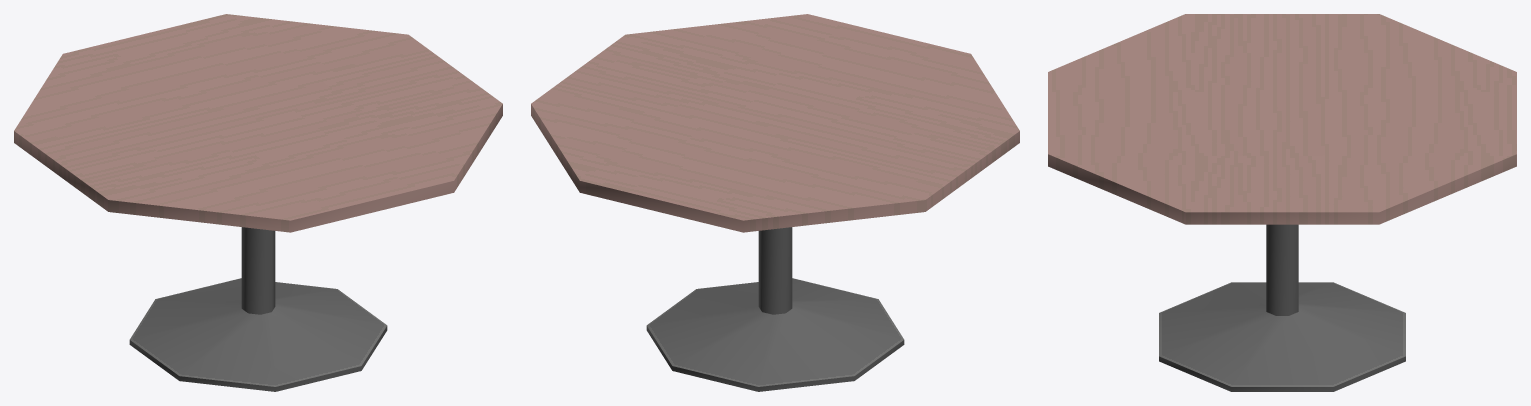
Rendered from 035b_Round_Table.glb.
3 renders of one model, left to right at view 1: azimuth 30°, elevation 25°; view 2: azimuth 150°, elevation 25°; view 3: azimuth 270°, elevation 25°, orthographic. The views are drawn at different scales.
Visible parts, largest first — view 1: part_0; view 2: part_0; view 3: part_0.
Boxes of the visible parts, x1=… form: part_0: x1=14, y1=14, x2=502, y2=391; part_0: x1=531, y1=14, x2=1019, y2=391; part_0: x1=1048, y1=14, x2=1516, y2=391.
Size of the model in its own units: 0.8315 by 0.4434 by 0.8315.
Materials: 1 (1 with a texture image).
